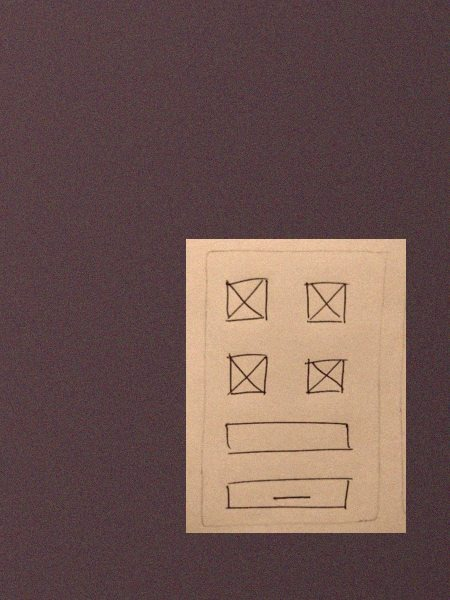button: (220, 476, 355, 513)
image: (221, 272, 273, 328), (299, 275, 351, 327), (222, 349, 272, 400), (301, 353, 350, 399)
text_input: (221, 419, 355, 457)
